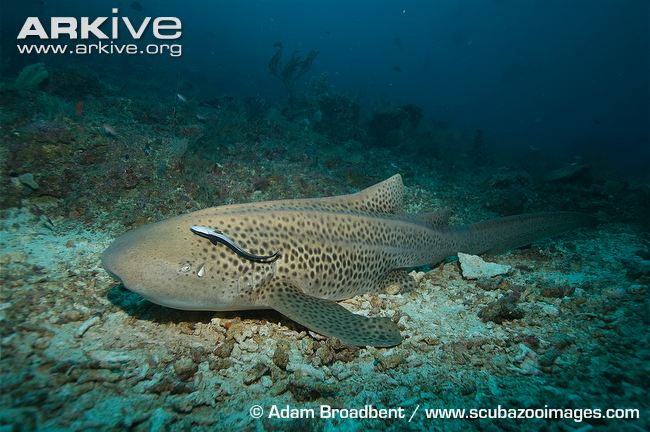shark: (66, 154, 623, 357)
